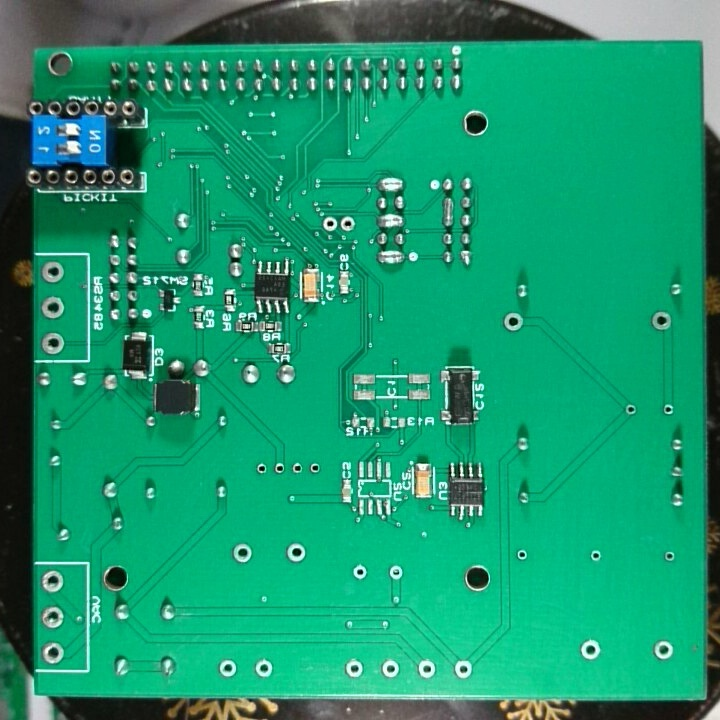F: (39, 293, 67, 323), (39, 258, 66, 289), (39, 638, 67, 666), (39, 602, 65, 632), (577, 635, 604, 663), (39, 567, 65, 596), (39, 329, 65, 357), (282, 540, 311, 565), (228, 540, 254, 566), (451, 655, 474, 682), (651, 638, 675, 662), (342, 656, 366, 680), (216, 656, 240, 679), (251, 656, 274, 680), (648, 309, 673, 330), (502, 310, 525, 332), (379, 656, 400, 680), (415, 657, 437, 679), (339, 212, 357, 238), (350, 562, 370, 583), (319, 214, 339, 235), (305, 458, 325, 478), (659, 548, 679, 566), (387, 562, 405, 582), (271, 458, 288, 479), (513, 546, 531, 565), (288, 458, 305, 478), (622, 400, 638, 420), (659, 400, 676, 418), (254, 460, 271, 478), (588, 546, 603, 563)
P: (374, 175, 406, 194), (439, 194, 456, 229), (374, 247, 405, 266), (375, 211, 405, 229)
